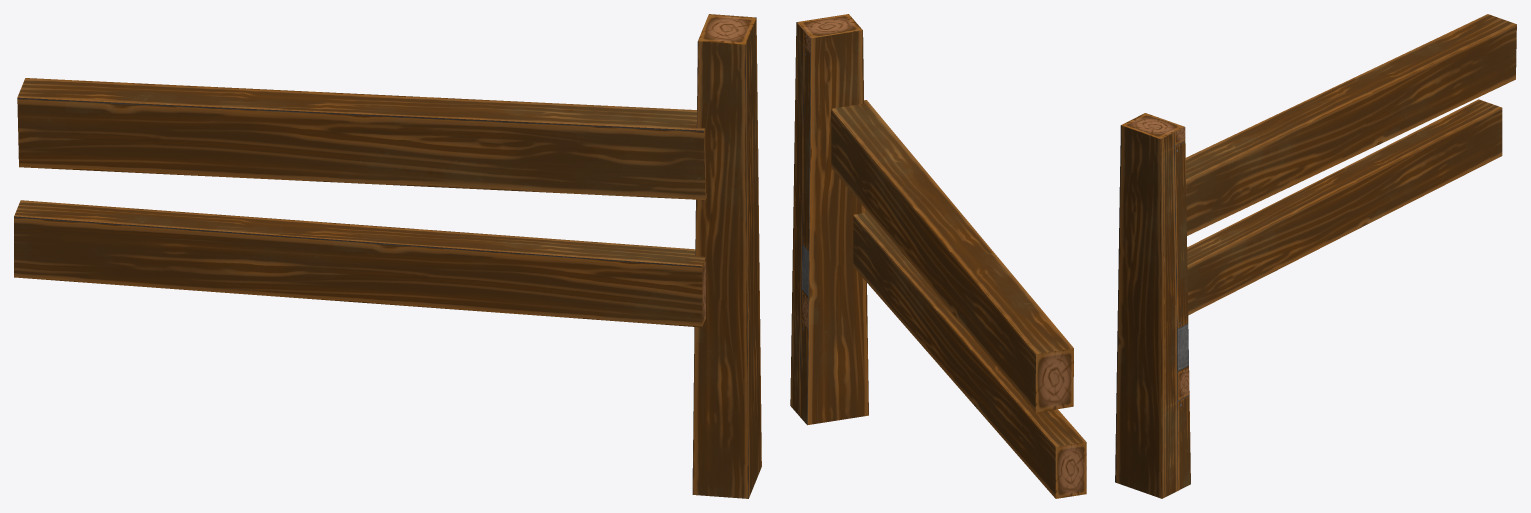
3 views of the same model, side by side, from view 1: azimuth 30°, elevation 25°; view 2: azimuth 150°, elevation 25°; view 3: azimuth 270°, elevation 25° (orthographic). The views are drawn at different scales.
Parts seen in each view (by area): view 1: Cube.2145; view 2: Cube.2145; view 3: Cube.2145.
Part boxes in pixels (left/top/right/bottom): Cube.2145: left=14, top=14, right=761, bottom=498; Cube.2145: left=790, top=14, right=1086, bottom=498; Cube.2145: left=1115, top=14, right=1516, bottom=498.
Size of the model in its own units: 180 by 142 by 145.
1 material, 1 textured.
